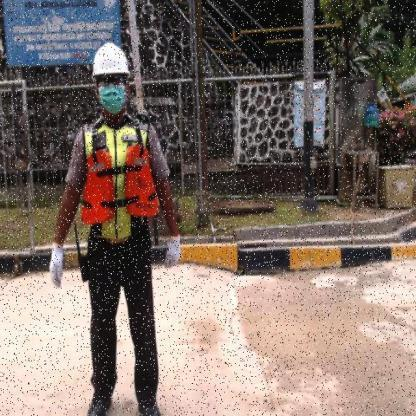boots: (86, 389, 114, 415), (136, 394, 162, 415)
gloves: (48, 240, 66, 290), (164, 234, 184, 272)
goggles: (102, 72, 127, 84)
helmet: (92, 36, 130, 76)
mask: (101, 87, 125, 112)
vest: (79, 141, 160, 227)
